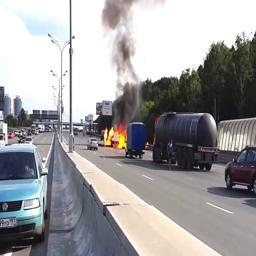fire: (103, 124, 127, 149)
